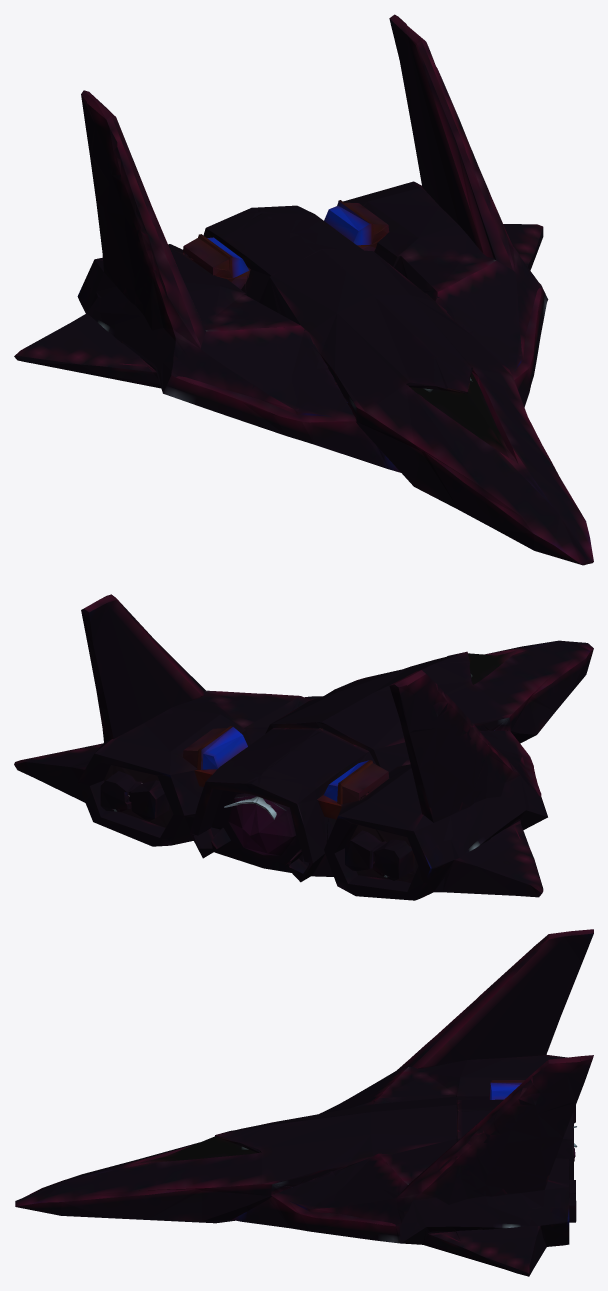
The picture shows the model from 3 angles, top to bottom: view 1: azimuth 30°, elevation 25°; view 2: azimuth 150°, elevation 25°; view 3: azimuth 270°, elevation 25°; orthographic projection. The views are drawn at different scales.
Visible parts, largest first — view 1: world; view 2: world; view 3: world.
Boxes of the visible parts, x1,y1,x2,y2 form: world: (14,14,593,565); world: (14,594,593,900); world: (15,929,593,1276).
Bounding box in the file's own units: 0.8765 × 0.4311 × 1.
Materials: 1 (1 with a texture image).
